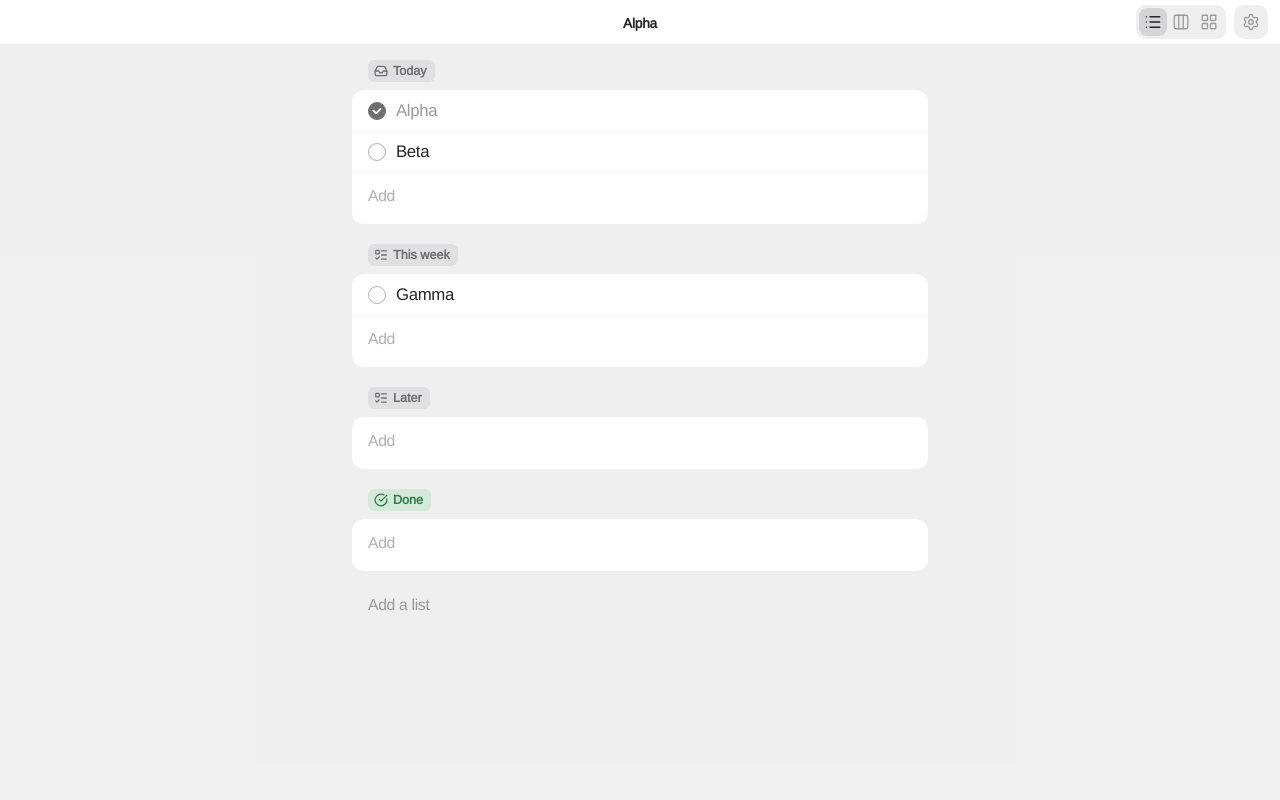
KanbanPage › puts gallery composer and cards on one shared canvas
Click the tab named "Gallery".
click(1209, 22)  # box [1195,8,1223,36]
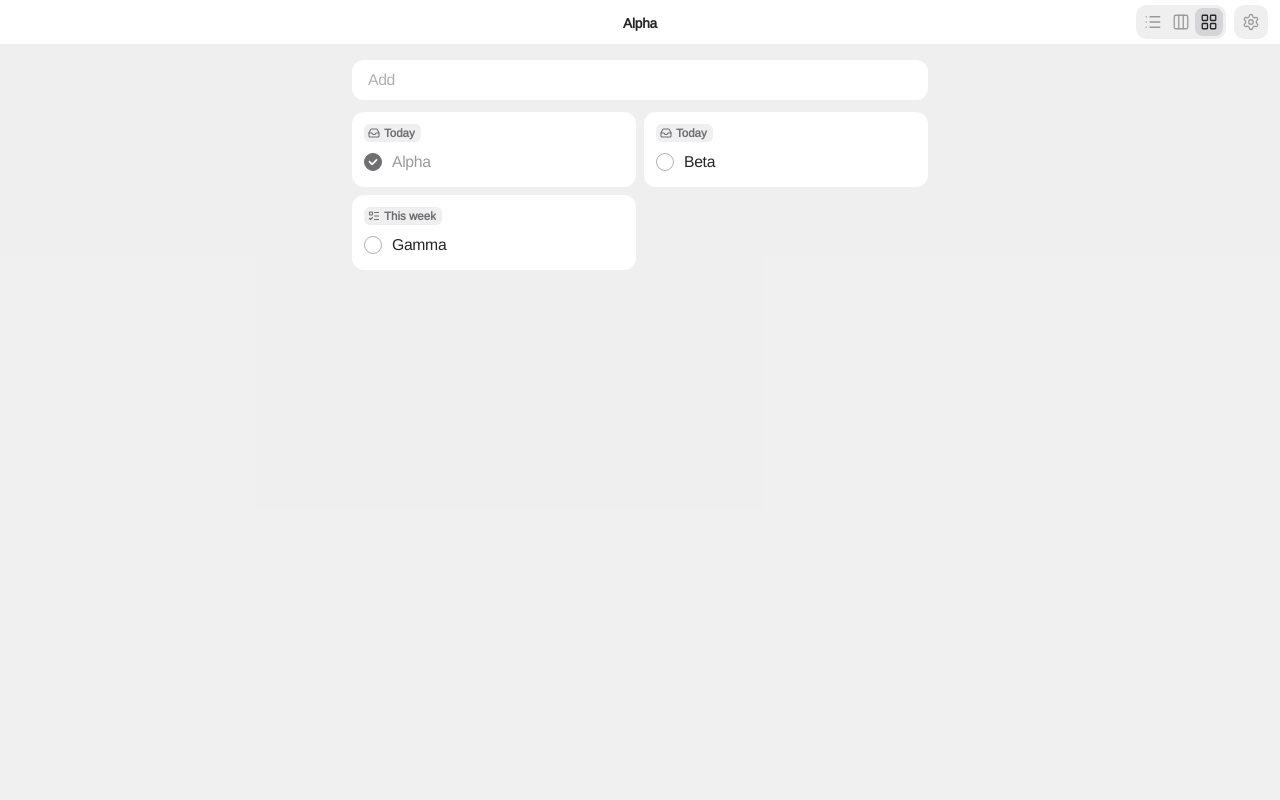
Result: the element with class "kanban-gallery-inner" is shown at [352,60,928,270]
Result: the element with class "kanban-gallery-composer" is shown at [352,60,928,100]
Result: the number of elements with class "kanban-gallery-card" is 3 at [352,112,636,187]; [644,112,928,187]; [352,195,636,270]
